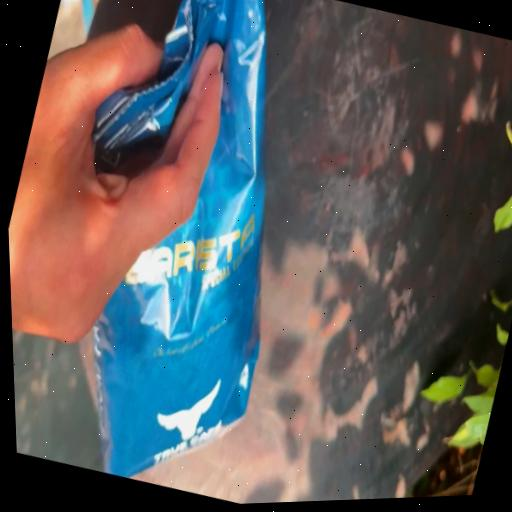cafe_hat: (91, 0, 264, 477)
